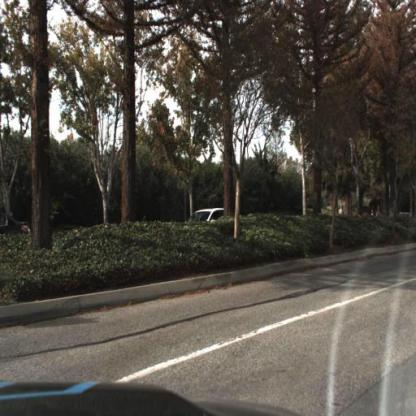car: (176, 202, 229, 240), (181, 206, 229, 227)
